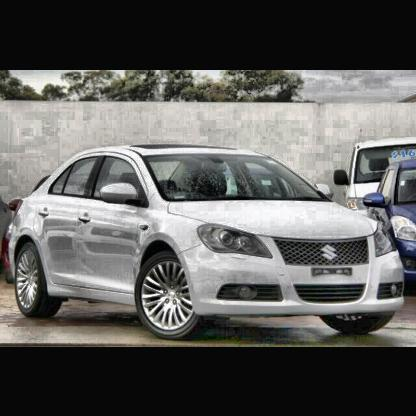Suzuki Kizashi Sedan 2012: (5, 147, 407, 336)
